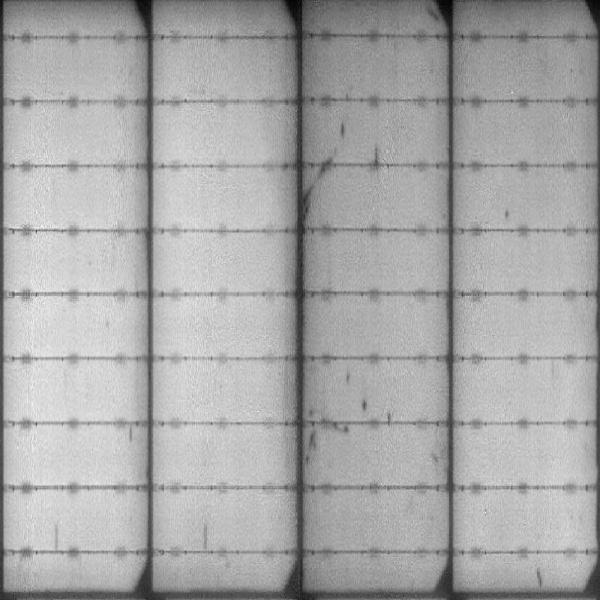scratch: (303, 412, 321, 472), (302, 168, 334, 200), (51, 521, 59, 550)
